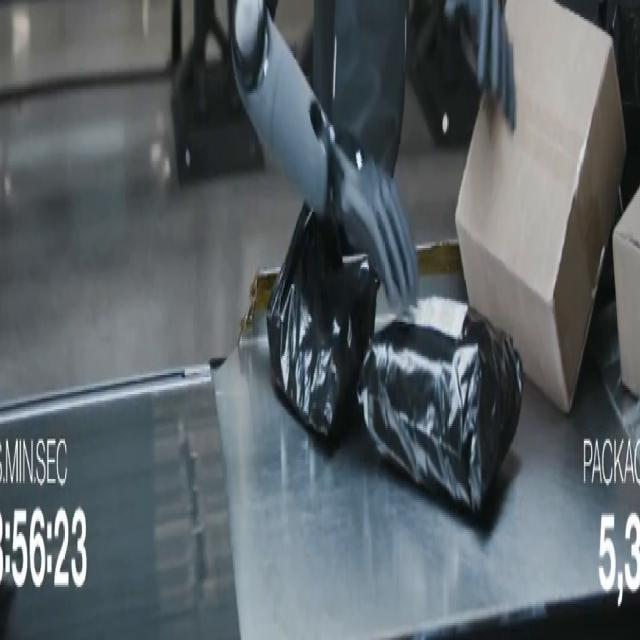package: (456, 0, 625, 413), (359, 297, 522, 512), (267, 206, 379, 445), (614, 191, 639, 396)
